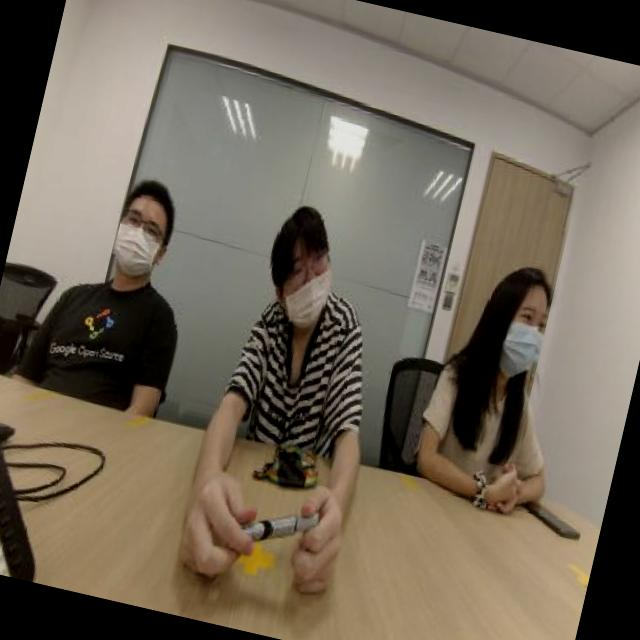Person: (200, 148, 418, 466), (23, 68, 227, 405), (433, 212, 584, 482)
